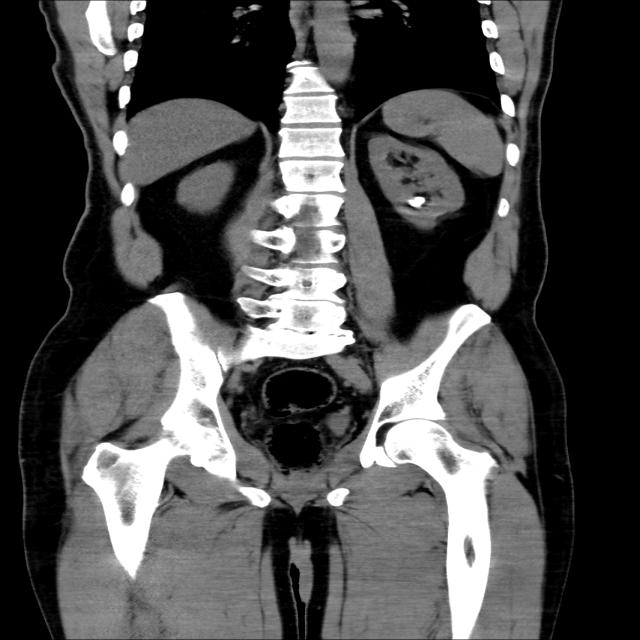kidneystone: (408, 196, 426, 208)
